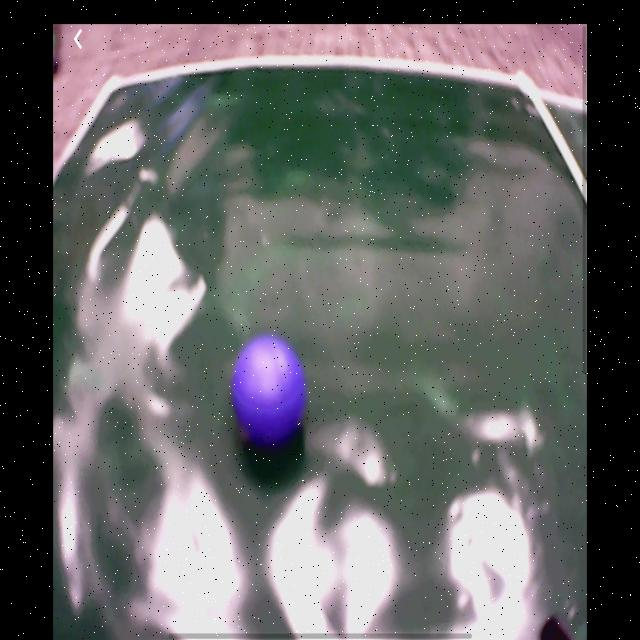ball: (233, 339, 308, 440)
